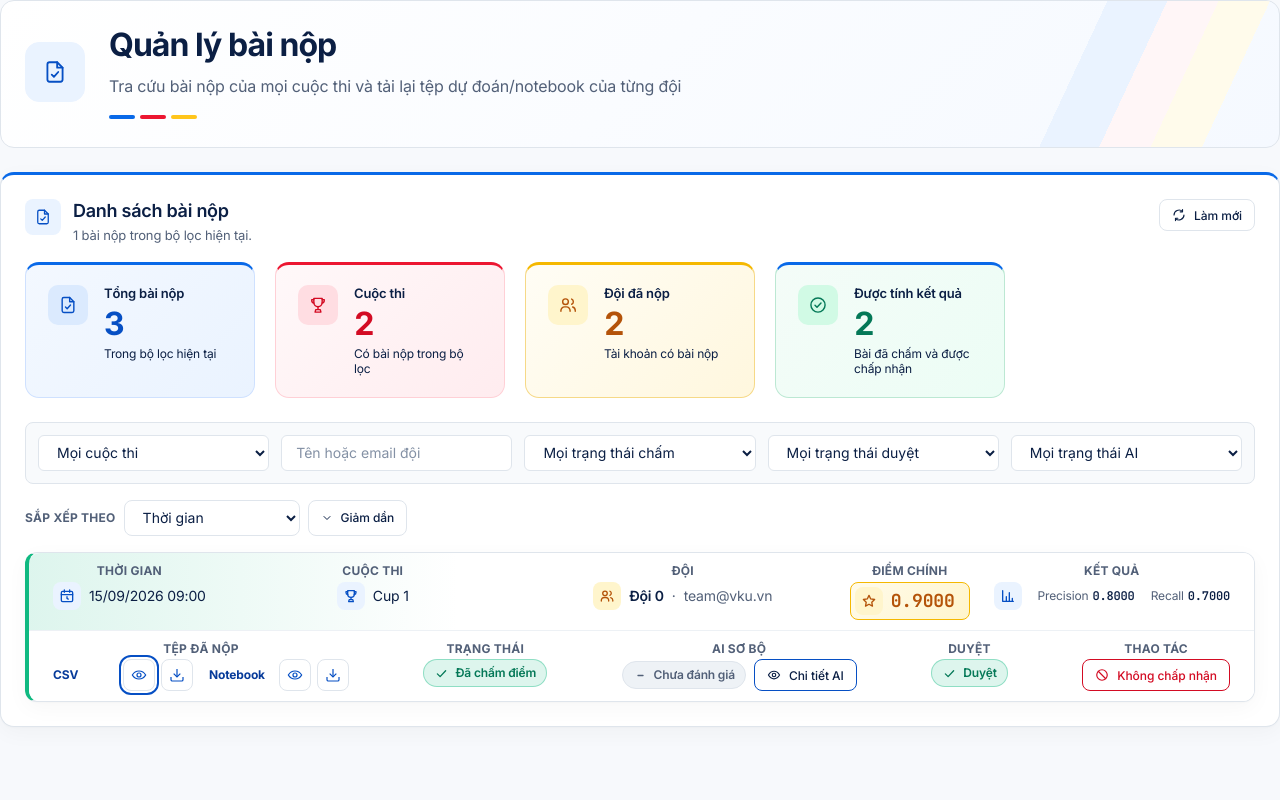
Scenario: nút Xem CSV mở trình xem qua route admin toàn cục và đóng trả focus
Expected: the text "Đội 0" is shown, x1=629 y1=585 x2=664 y2=606
Click the button named "Xem CSV".
click(139, 675)  # box x1=123 y1=659 x2=155 y2=691
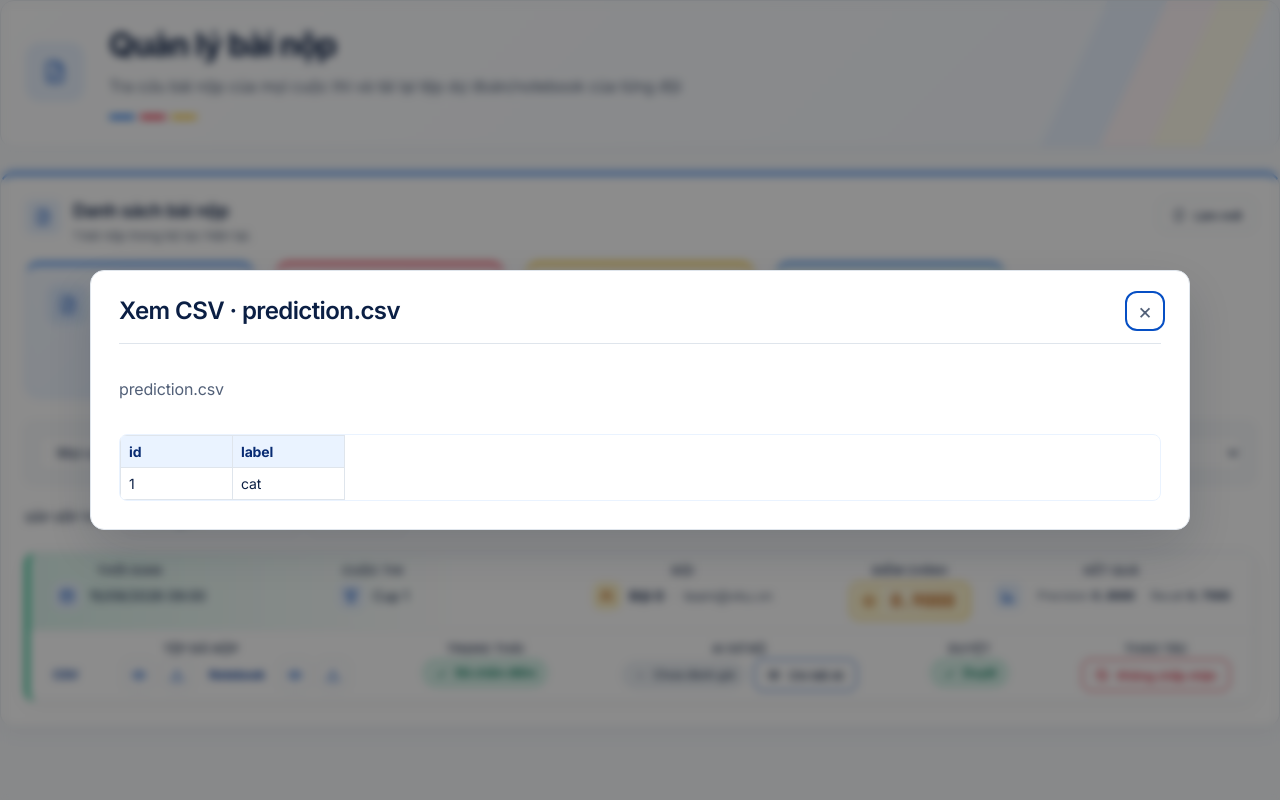
Now the table is shown, box x1=120 y1=435 x2=345 y2=500
Press Escape
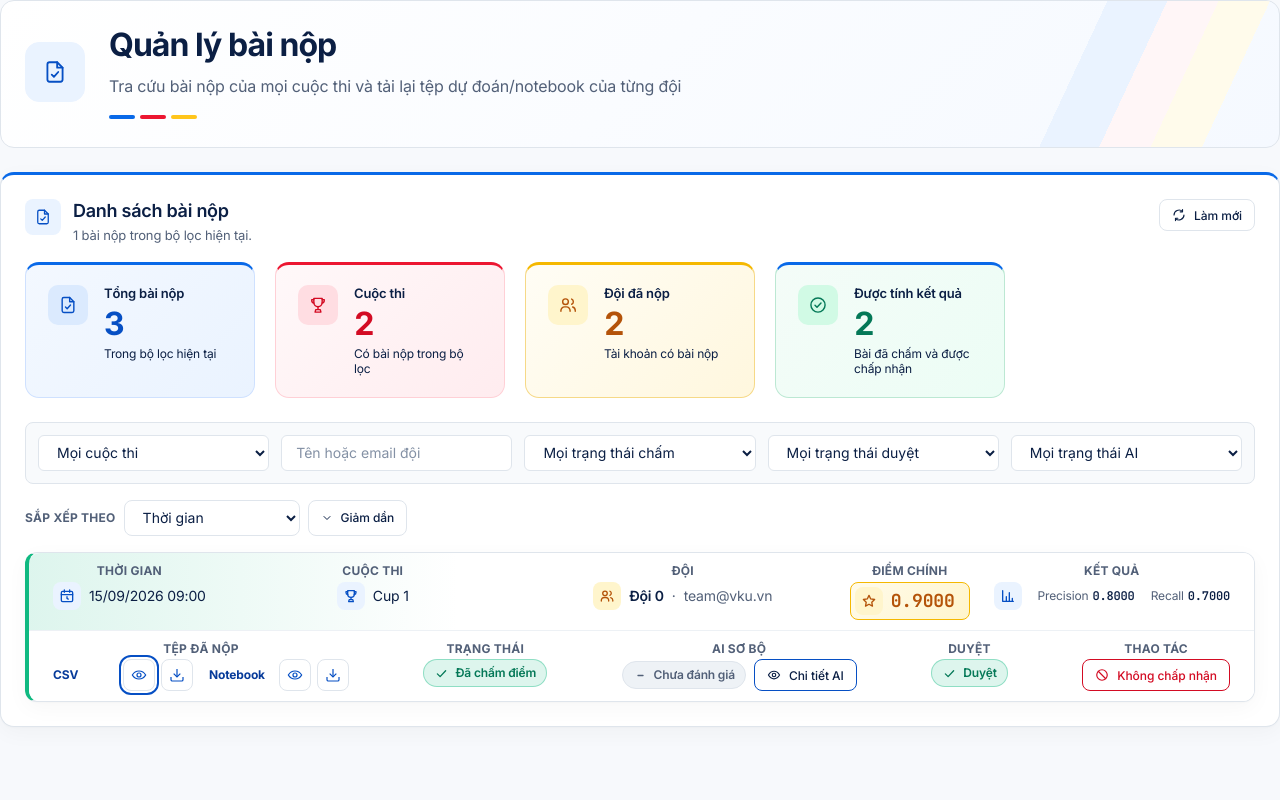
Now the dialog is gone
